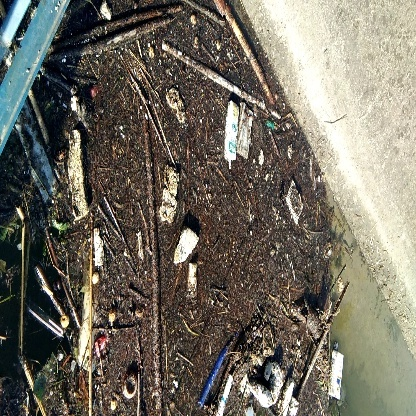branch: (138, 116, 168, 391), (65, 4, 186, 45), (226, 3, 274, 97)
milk-box: (222, 94, 239, 172), (330, 348, 346, 405)
